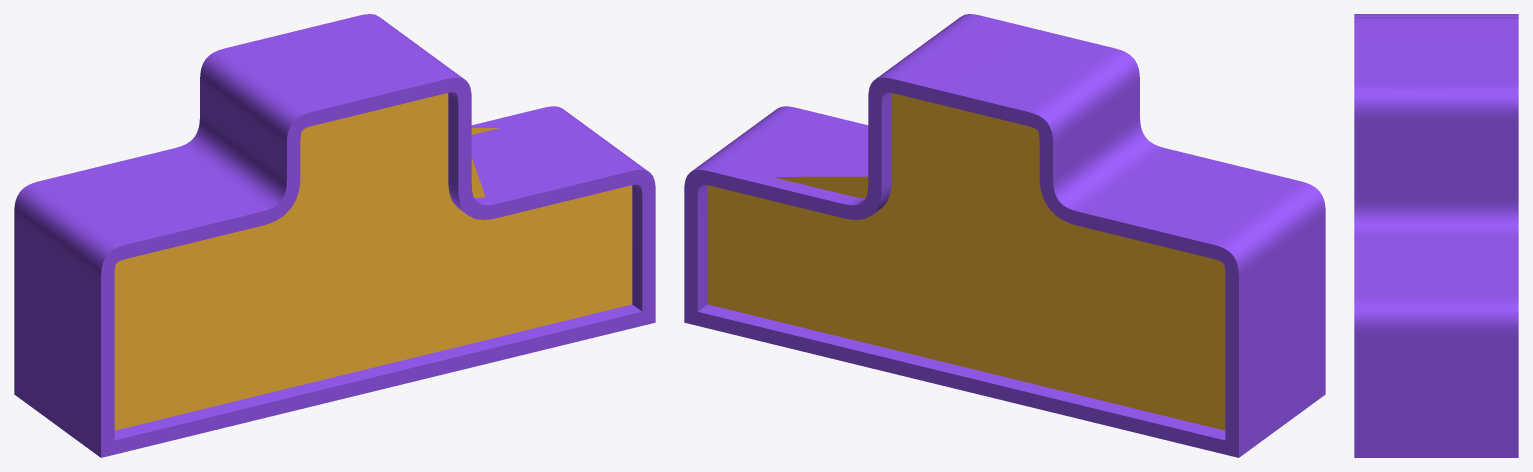
The model's file is Winners Pedestal Cube B.fbx.
3 views of the same model, side by side, from view 1: azimuth 30°, elevation 25°; view 2: azimuth 150°, elevation 25°; view 3: azimuth 270°, elevation 25° (orthographic). The views are drawn at different scales.
Parts seen in each view (by area): view 1: Winners Pedestal Cube B; view 2: Winners Pedestal Cube B; view 3: Winners Pedestal Cube B.
Part boxes in pixels (bbox=[...]): Winners Pedestal Cube B: bbox=[14, 14, 655, 457]; Winners Pedestal Cube B: bbox=[684, 14, 1325, 457]; Winners Pedestal Cube B: bbox=[1354, 14, 1518, 457].
Bounding box in the file's own units: 377 × 192 × 102.
